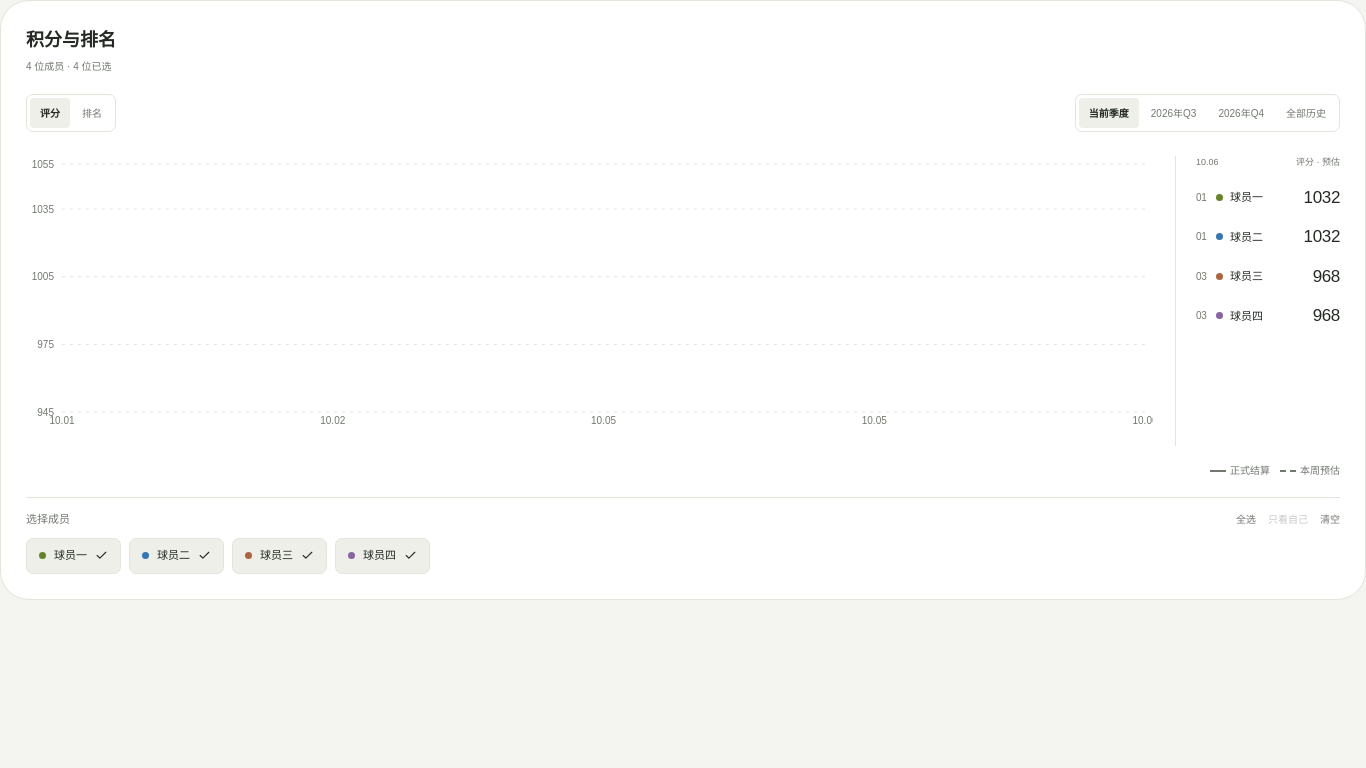
新版 glicko2 趋势(全量页) › 季度切换:当前季度 / 历史季度 / 全部历史均正常渲染
The width and height of the screenshot is (1366, 768).
Click the button "全部历史" at (1306, 113), box [1276,98,1336,128]
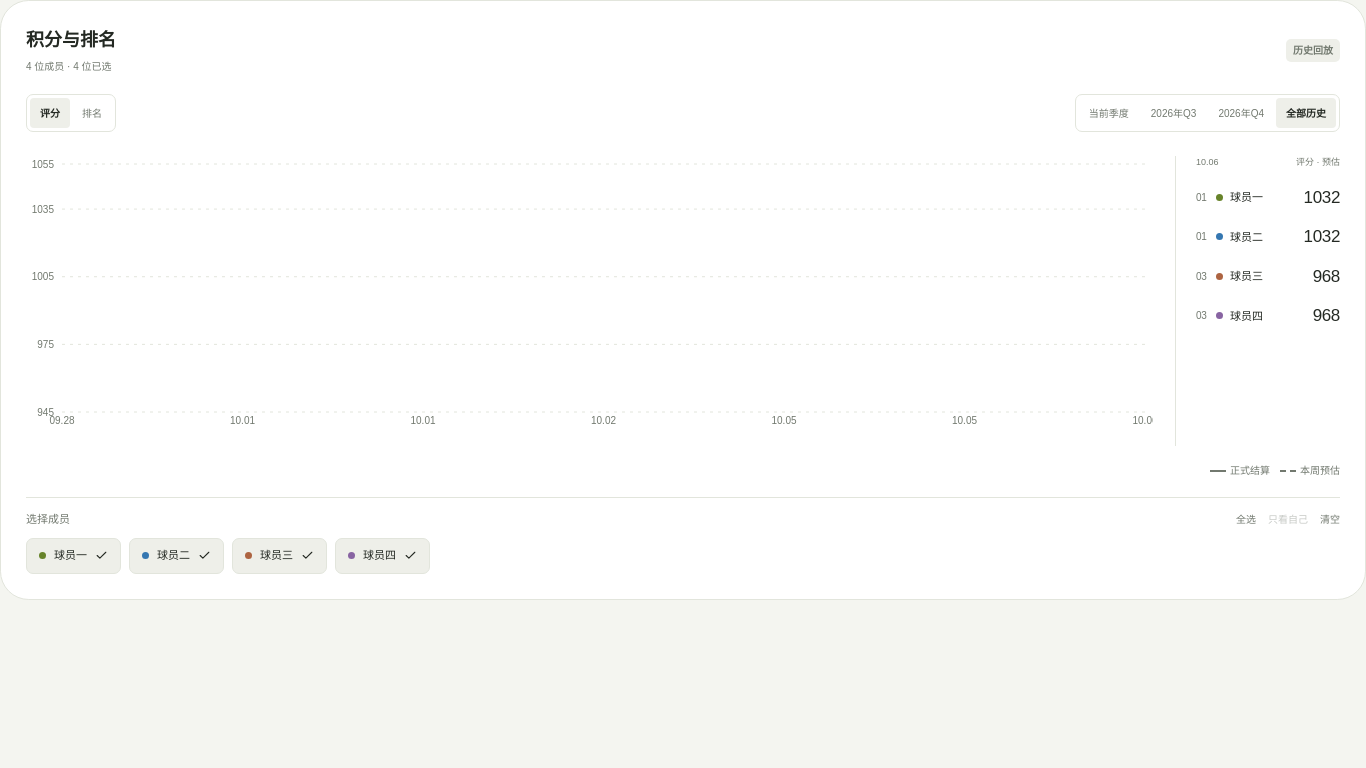
Expected: the element showing "10.06 评分 · 预估 01 球员一 1032 01 球员二 1032 03 球员三 968 03 球员四 968" is shown, [1175,156,1340,446]
Now the text "历史回放" is shown, box [1286,38,1340,62]
Click the button "2026年Q3" at (1174, 113), box [1141,98,1206,128]
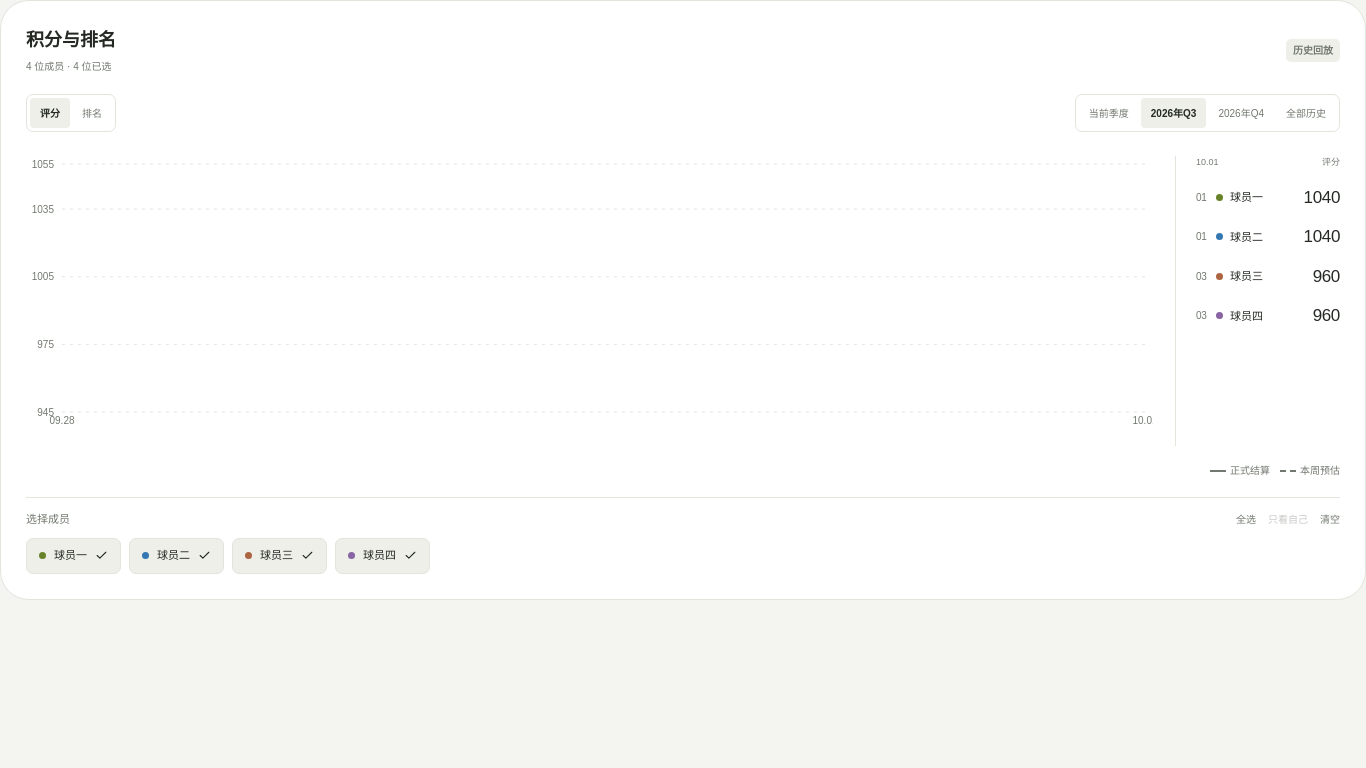
Expected: the element showing "10.01 评分 01 球员一 1040 01 球员二 1040 03 球员三 960 03 球员四 960" is shown, [1175,156,1340,446]
Now the icon "10.06" is gone
回到当前季度:「现在」行恢复
Click the button "当前季度" at (1109, 113), box [1079,98,1139,128]
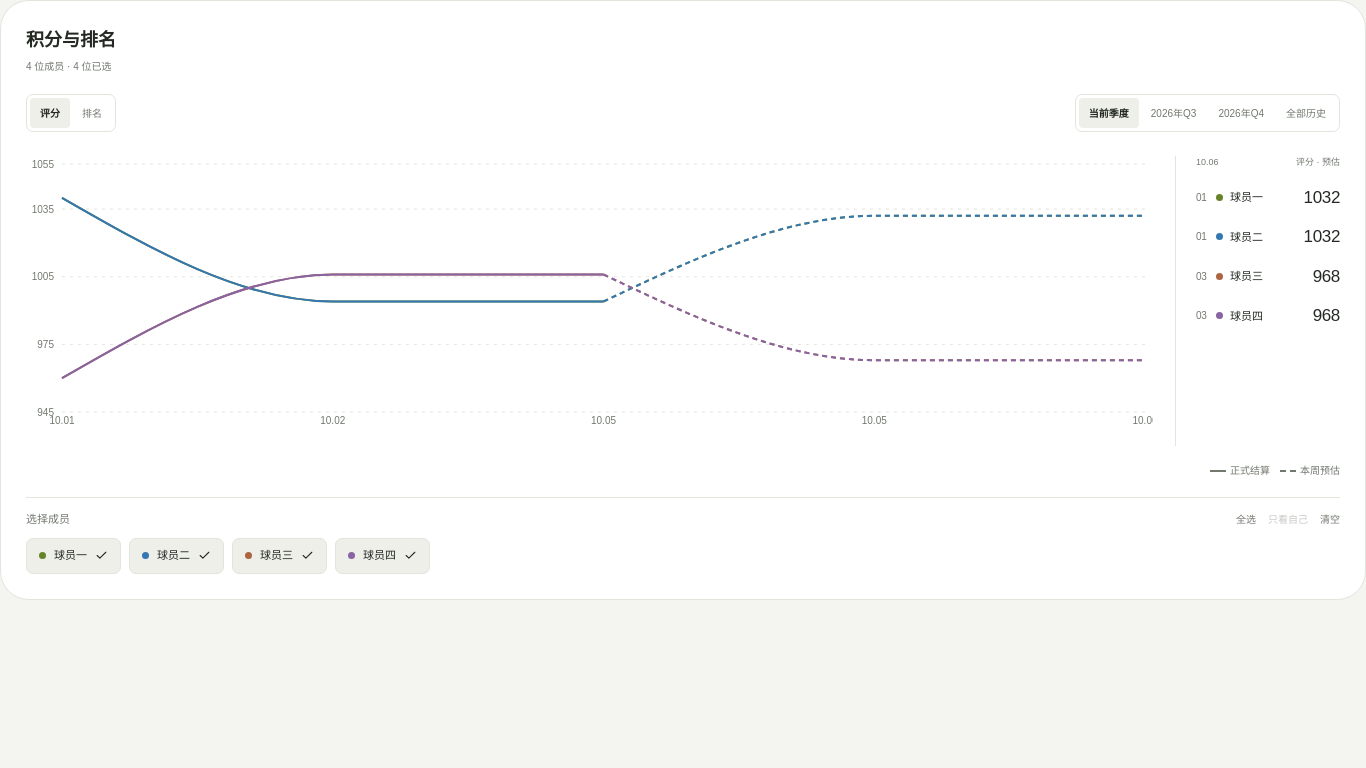
Now the text "10.06" is shown, box [1196,156,1218,170]
